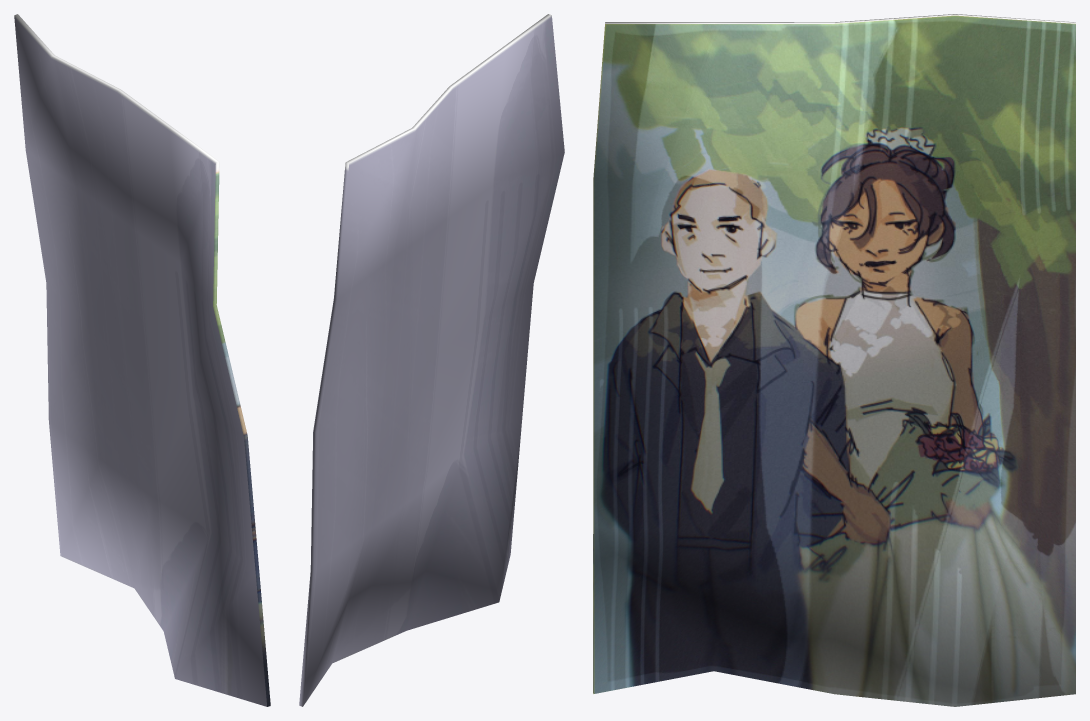
The model's file is weddingPhoto 1.fbx.
The picture shows the model from 3 angles, left to right: view 1: azimuth 30°, elevation 25°; view 2: azimuth 150°, elevation 25°; view 3: azimuth 270°, elevation 25°; orthographic projection. The views are drawn at different scales.
Parts seen in each view (by area): view 1: Plane; view 2: Plane; view 3: Plane.
Part boxes in pixels (<box>): Plane: <box>14,14,270,706</box>; Plane: <box>299,14,564,706</box>; Plane: <box>593,14,1075,706</box>.
Bounding box in the file's own units: 23.37 × 142 × 96.58.
Materials: 1 (1 with a texture image).
